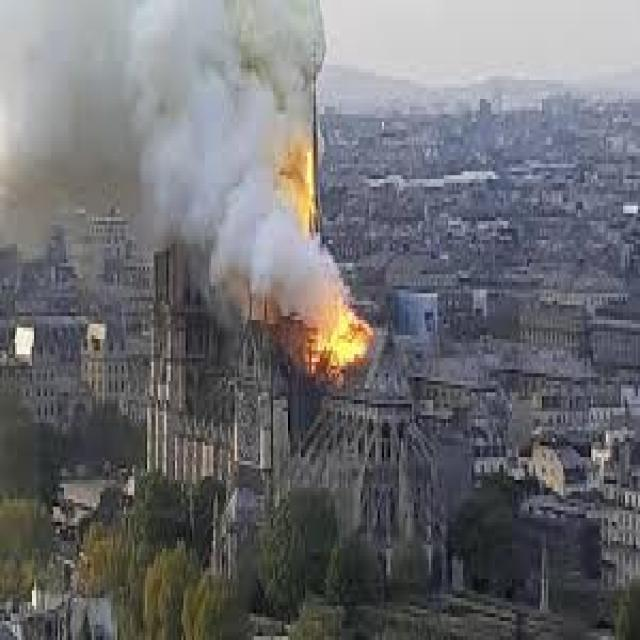Fire: (290, 294, 370, 380), (276, 136, 322, 222)
Smoke: (0, 0, 343, 296)
